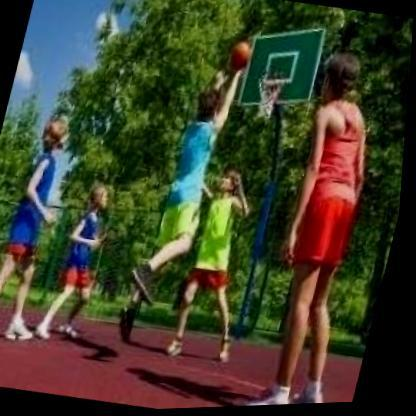basketball: (228, 40, 257, 73)
